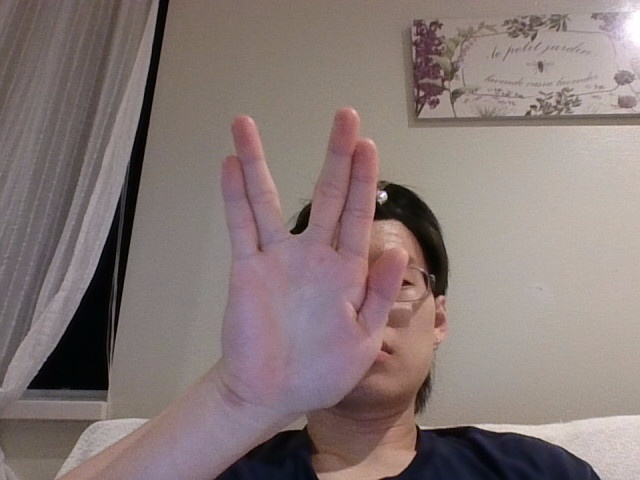LiveLong: (221, 107, 408, 410)
